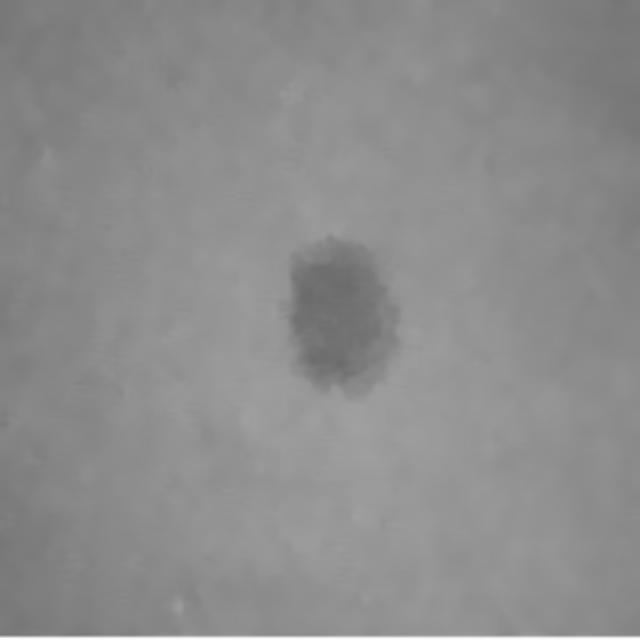Hole: (218, 182, 448, 444)
